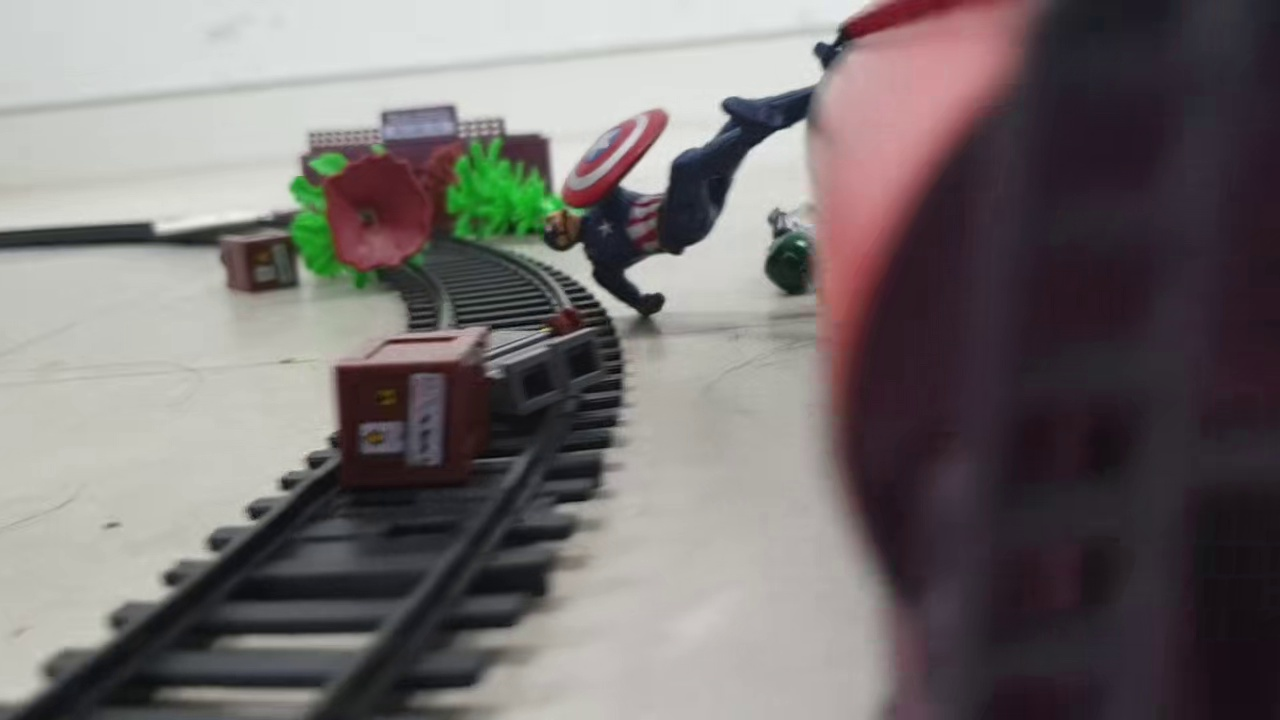box: (331, 324, 494, 488), (219, 227, 302, 296)
people: (543, 82, 816, 316)
tree: (289, 143, 432, 291), (414, 136, 599, 242)
